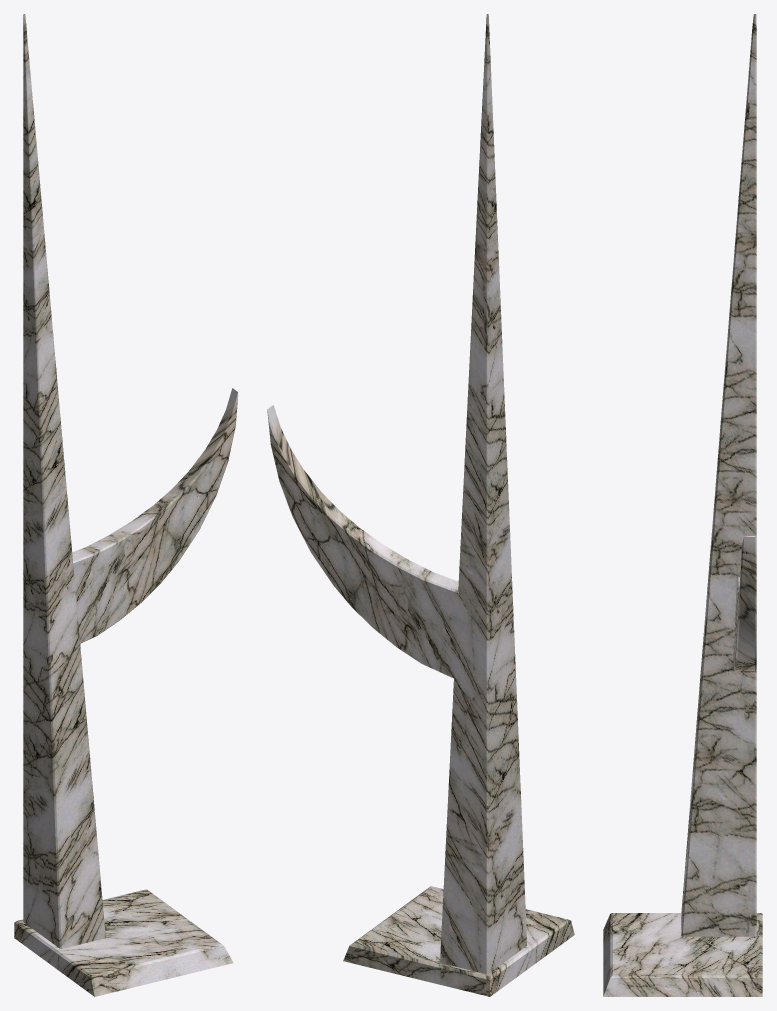
File: frn_quest_fs_sculpture_2_l0.fbx
3 views of the same model, side by side, from view 1: azimuth 30°, elevation 25°; view 2: azimuth 150°, elevation 25°; view 3: azimuth 270°, elevation 25° (orthographic). The views are drawn at different scales.
Visible parts, largest first — view 1: mesh_node; view 2: mesh_node; view 3: mesh_node.
Part boxes in pixels (box(x1,y1,x2,y2)): mesh_node: box(14, 14, 238, 996); mesh_node: box(267, 14, 574, 996); mesh_node: box(603, 14, 762, 996).
Bounding box in the file's own units: 0.6176 × 2.54 × 0.4.
